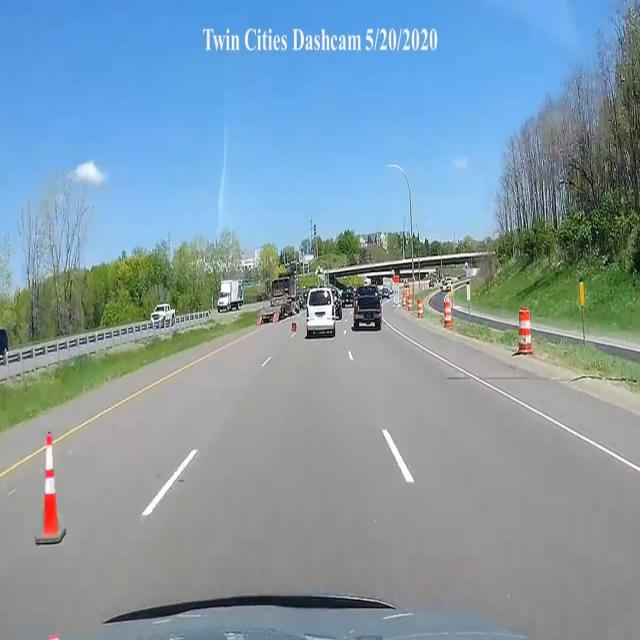Traffic Cone: (40, 429, 66, 541)
